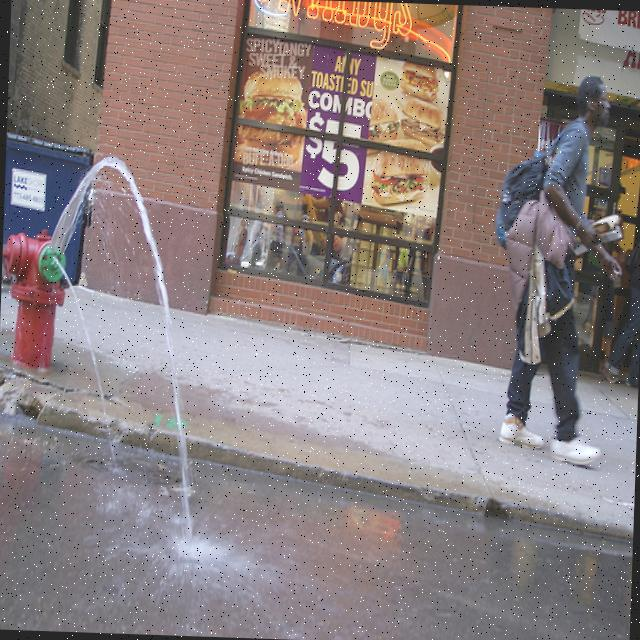fire_hydrant: (0, 228, 70, 367)
